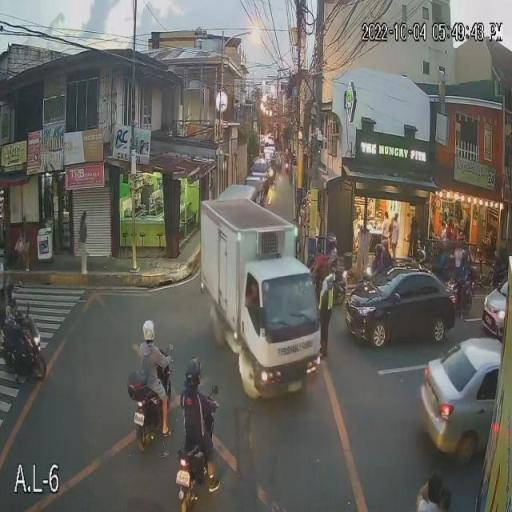helmet: (183, 356, 203, 388), (0, 273, 16, 301), (142, 318, 156, 342)
motorcycle: (127, 368, 162, 454), (0, 319, 47, 382), (174, 428, 209, 510)
rider: (178, 390, 220, 494), (139, 342, 172, 437), (0, 294, 24, 350)
